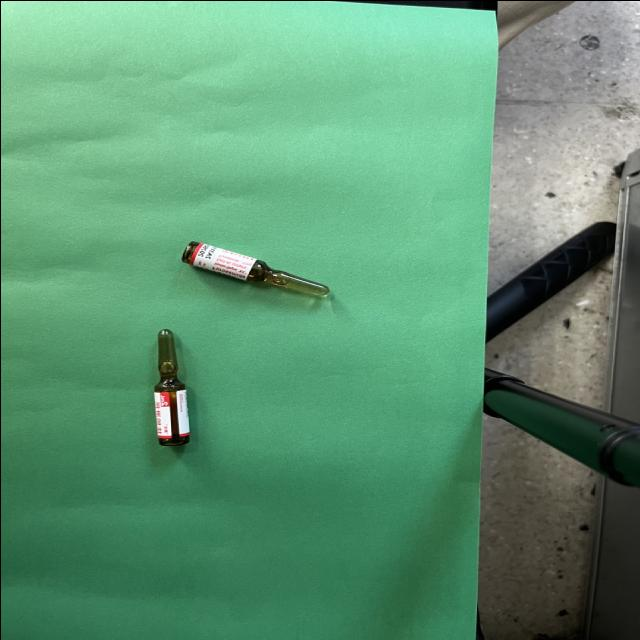Ampoules: (181, 240, 329, 296), (153, 328, 189, 446)
